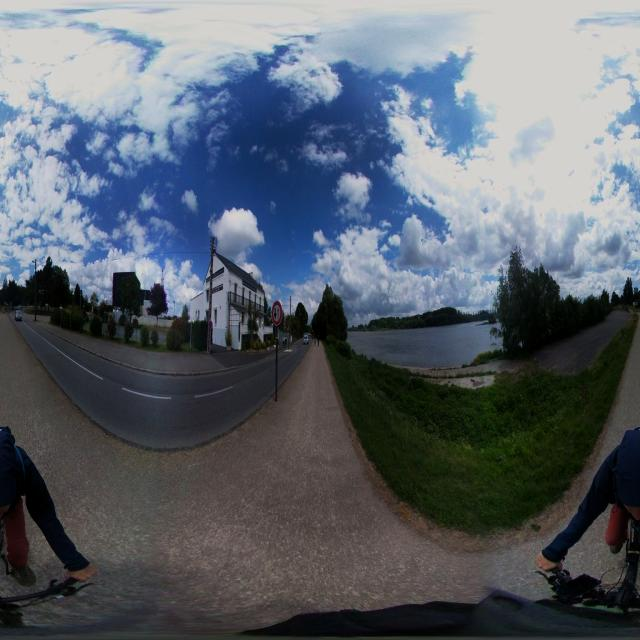car: (14, 306, 23, 322)
